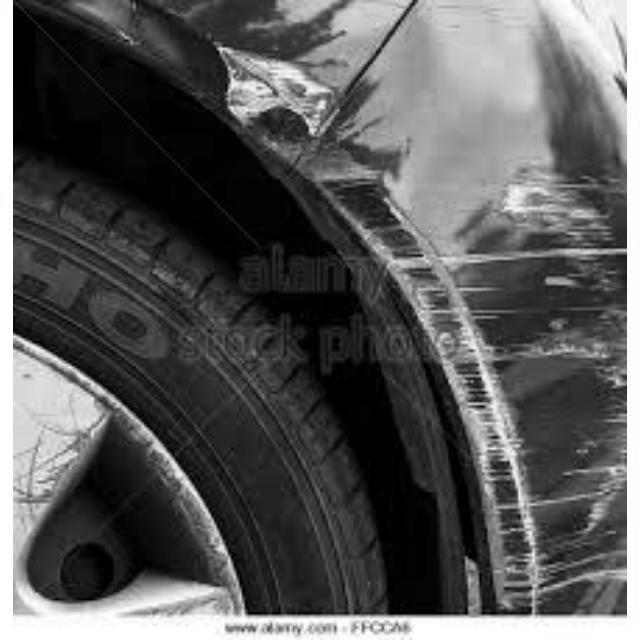fender-dent: (313, 15, 626, 618)
